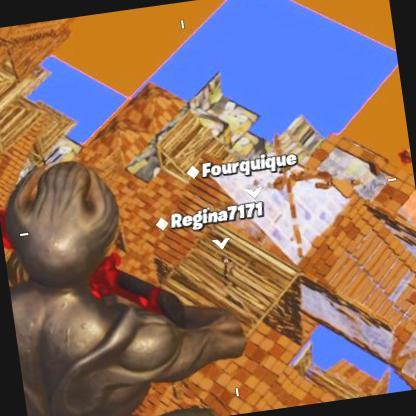person: (216, 249, 240, 284)
